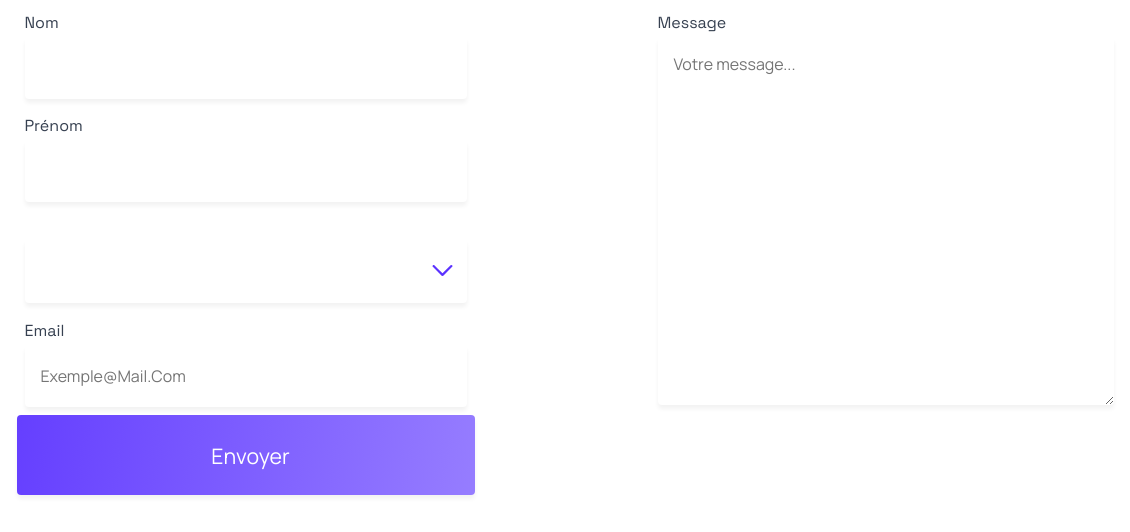
Test case: When Form is created › and a click is triggered on the submit button › affiche des erreurs si les champs sont invalides
clique sur le bouton sans rien remplir
Click the button "Envoyer" at (246, 455), box [16,415,474,495]
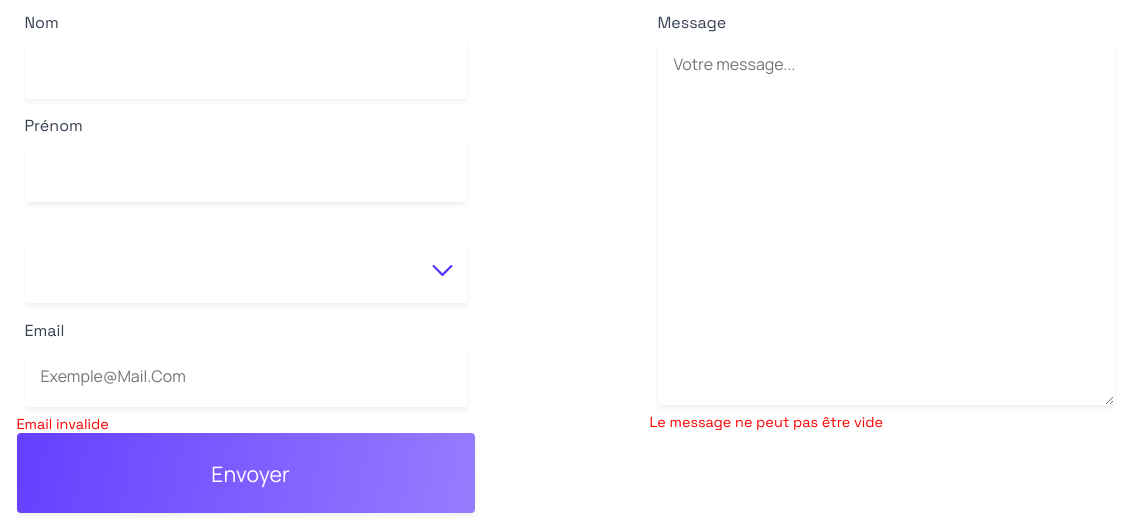
Expected: the text "Email invalide" is shown, [16,415,109,433]
Expected: the text "Le message ne peut pas être vide" is shown, [650,413,883,431]
